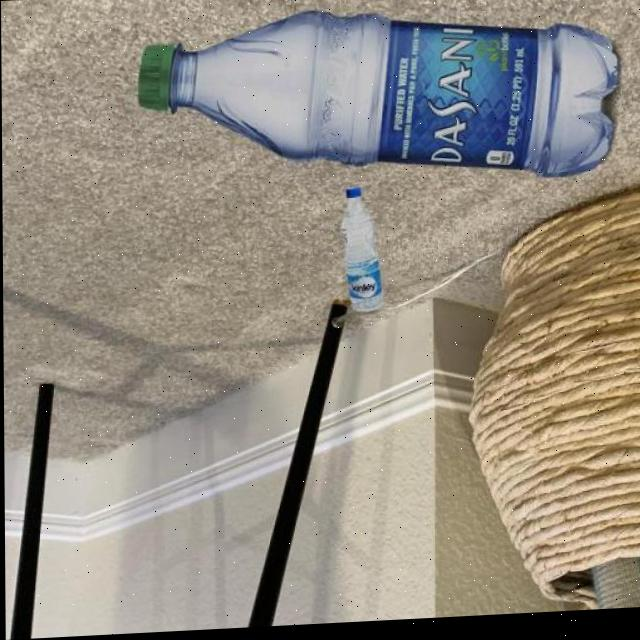bottle: (136, 1, 620, 202), (340, 188, 383, 318)
